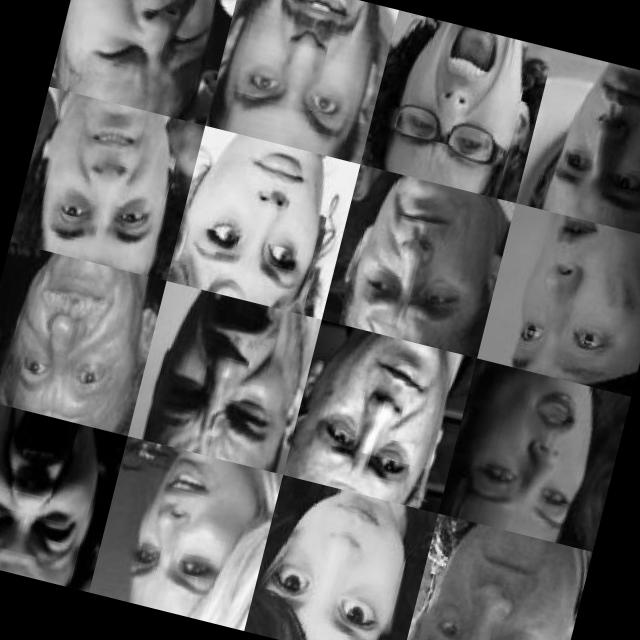angry: (280, 332, 452, 496), (103, 451, 267, 622), (348, 174, 497, 332), (391, 15, 538, 170), (218, 0, 385, 135), (70, 0, 233, 106)
fear: (140, 288, 308, 466), (492, 209, 640, 395), (0, 406, 115, 580)
happy: (0, 254, 143, 421)
neutral: (460, 373, 612, 543), (39, 95, 184, 264), (182, 141, 334, 300), (396, 518, 586, 640)
sad: (245, 477, 427, 640), (533, 52, 640, 225)
